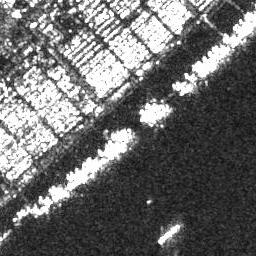ship: (157, 222, 181, 246)
